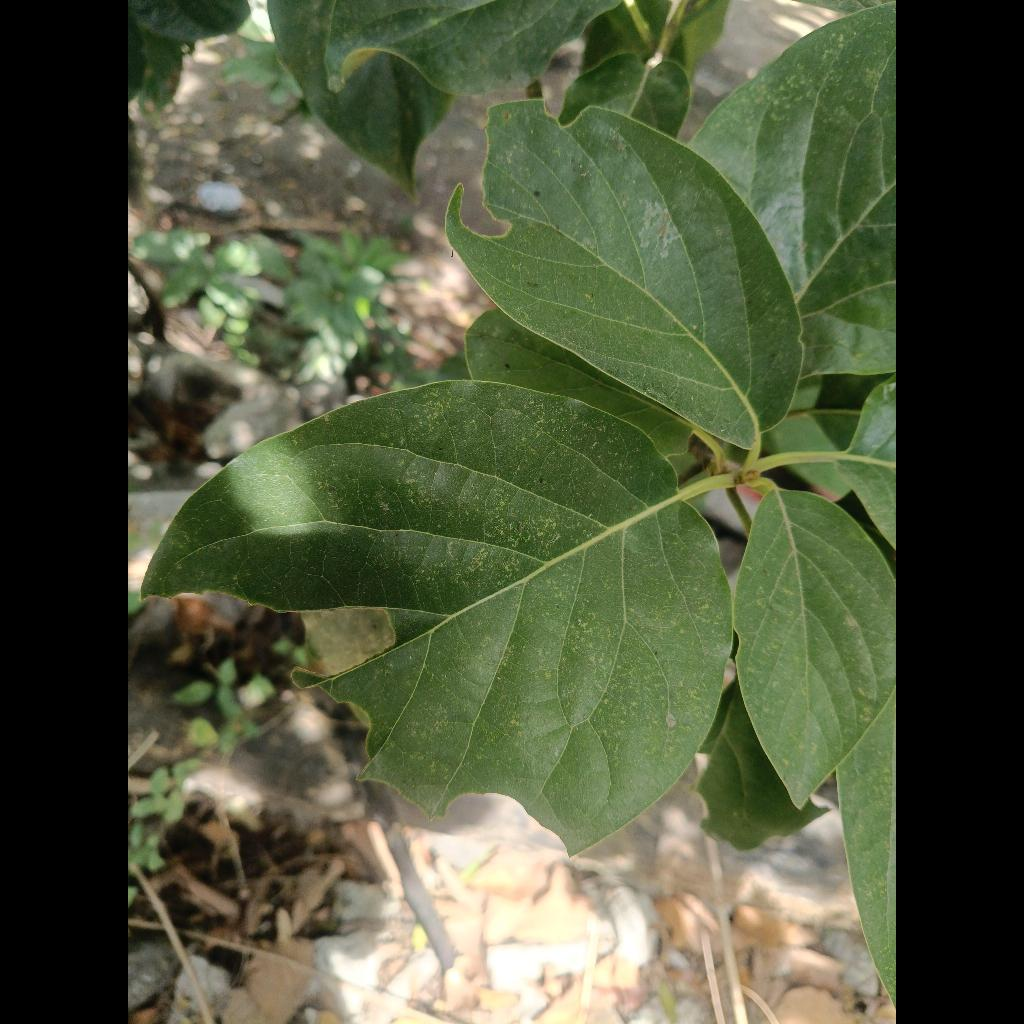plaga: (145, 381, 730, 852), (446, 100, 802, 447)
